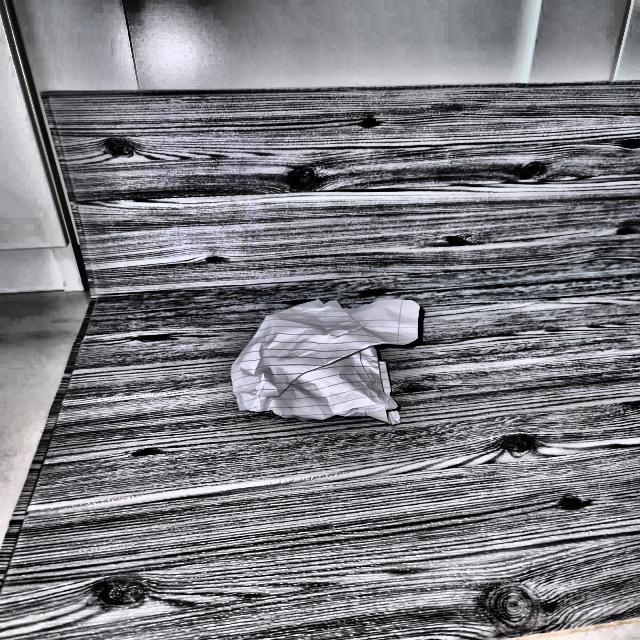Paper: (228, 294, 429, 418)
